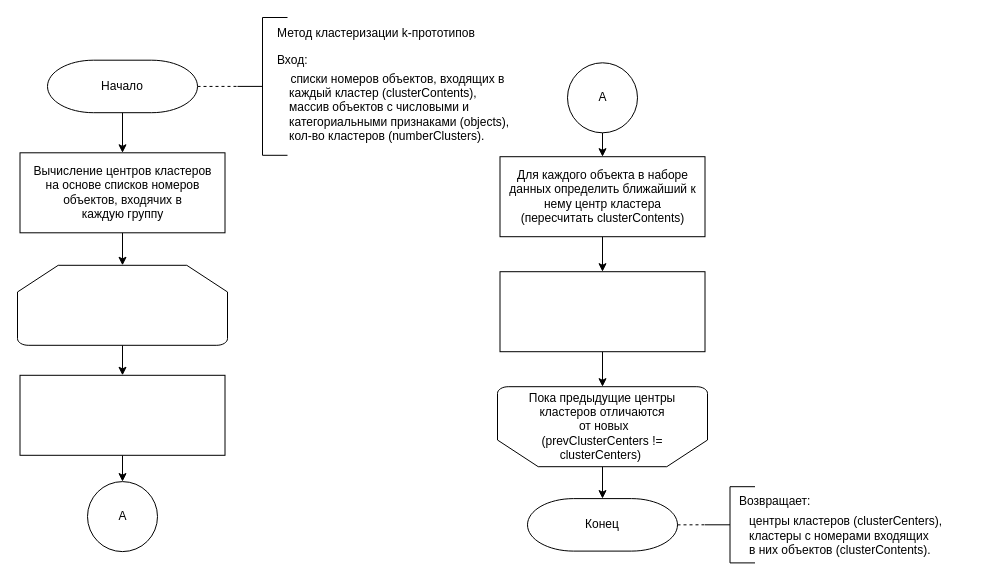
This 985x581 diagram has some shape labels left out. The shapes that lost their labels are listed below. From the top down, each one's centre as x and y in pixels, then its label:
point (122, 304): Начало цикла по нахождению новых центров кластеров
point (602, 311): Для каждого кластера вычислить новый центроид (новый центр) (сlusterCenters)
point (122, 414): Сохранить текущие центры кластеров (prevClusterCenters)
